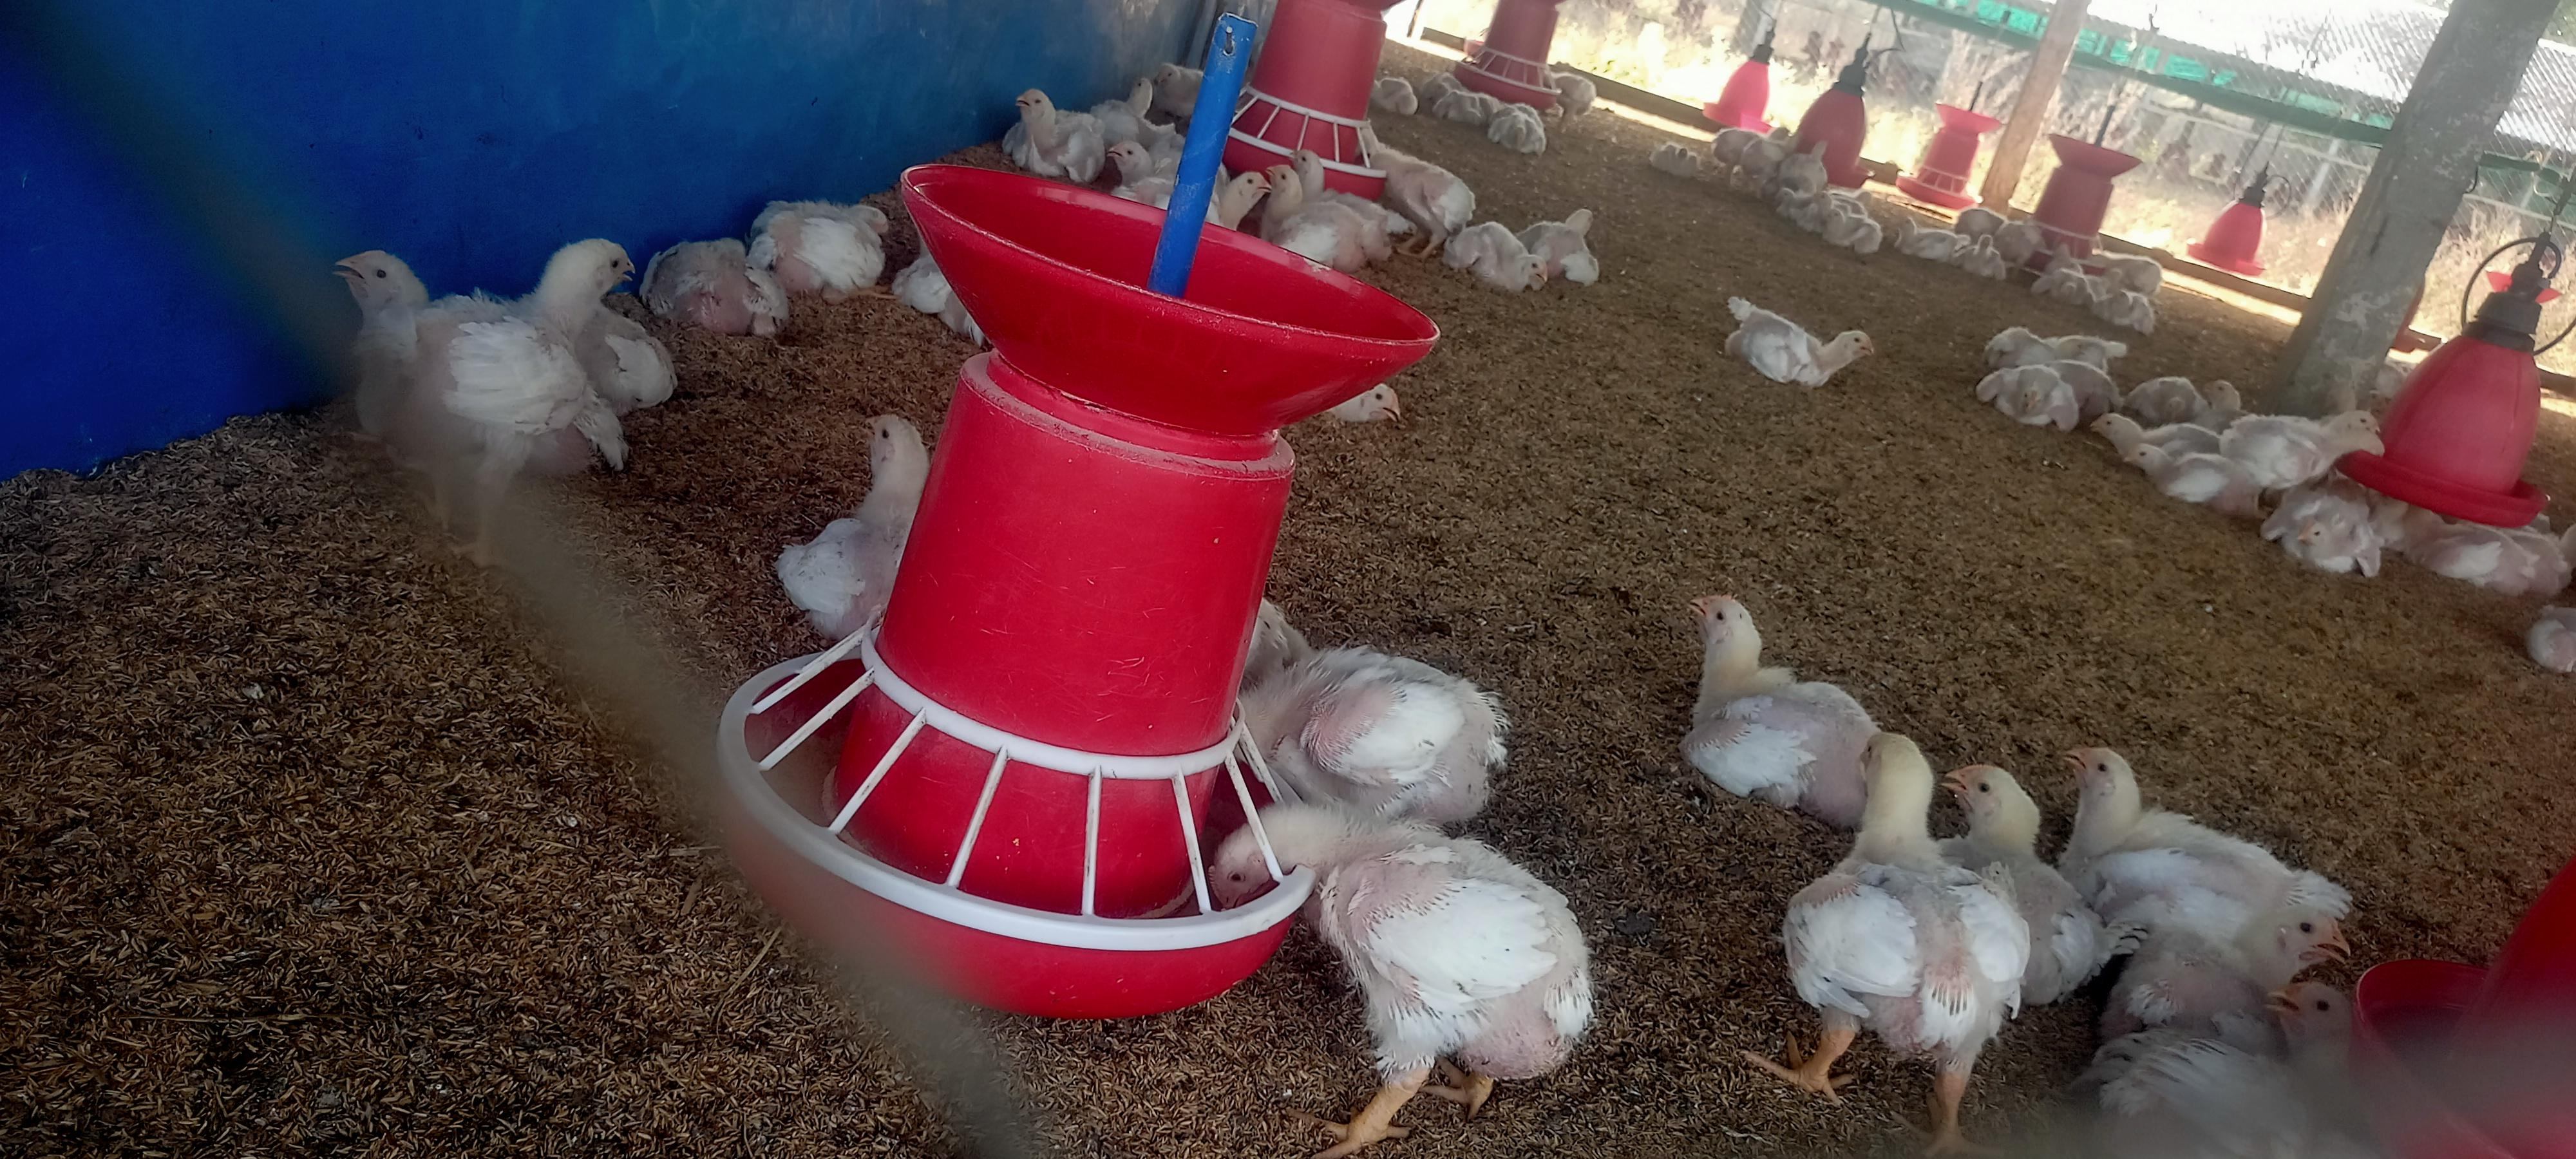Pollos: (1207, 804, 1608, 1082), (330, 245, 647, 486), (2052, 735, 2359, 977), (1807, 744, 1994, 1082), (1687, 579, 1866, 816), (1718, 289, 1876, 387)
